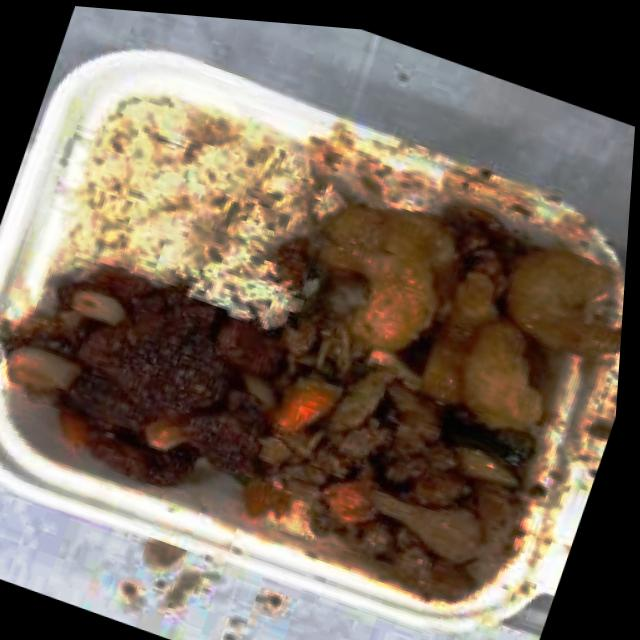Beijing Beef: (0, 246, 300, 520)
Kung Pao Chicken: (233, 350, 557, 612)
rice: (47, 78, 319, 322)
